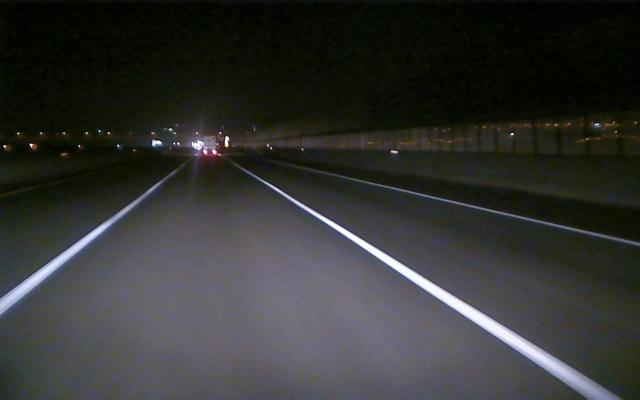lane: (248, 173, 618, 396), (333, 173, 639, 248), (2, 182, 159, 314)
